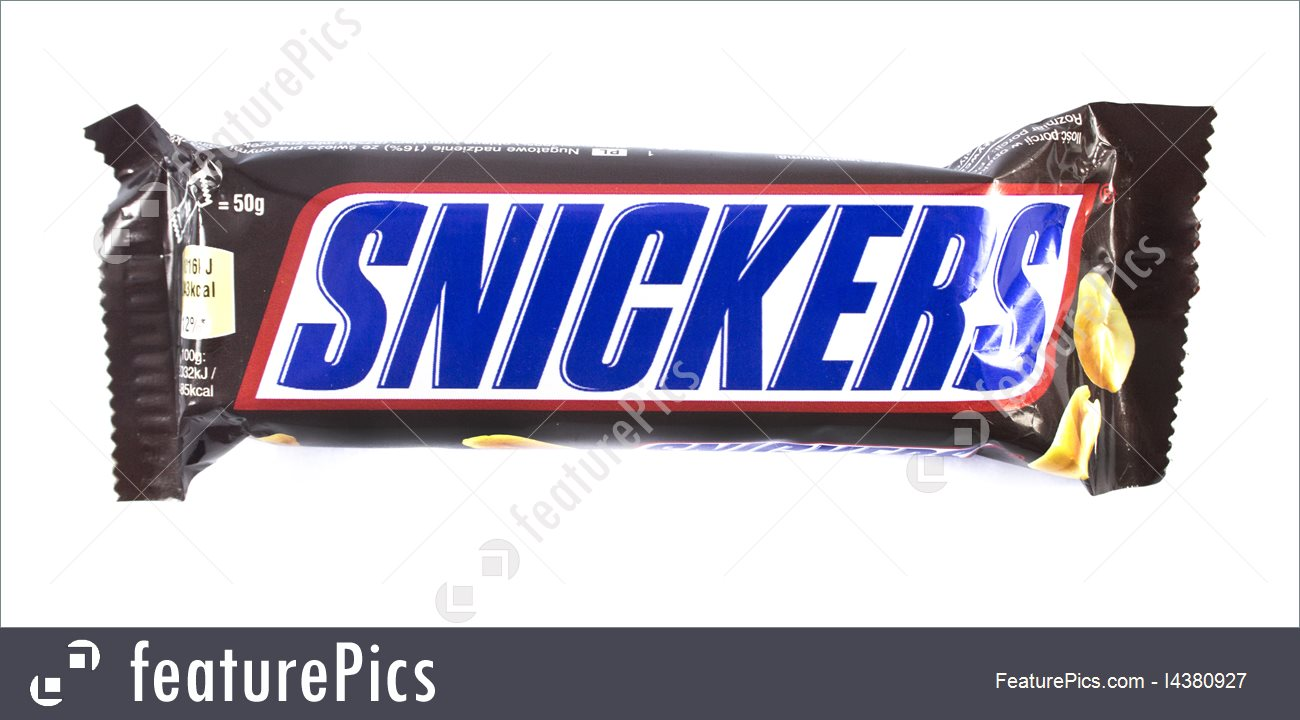snickers: (272, 200, 1075, 392), (272, 200, 1075, 384)
